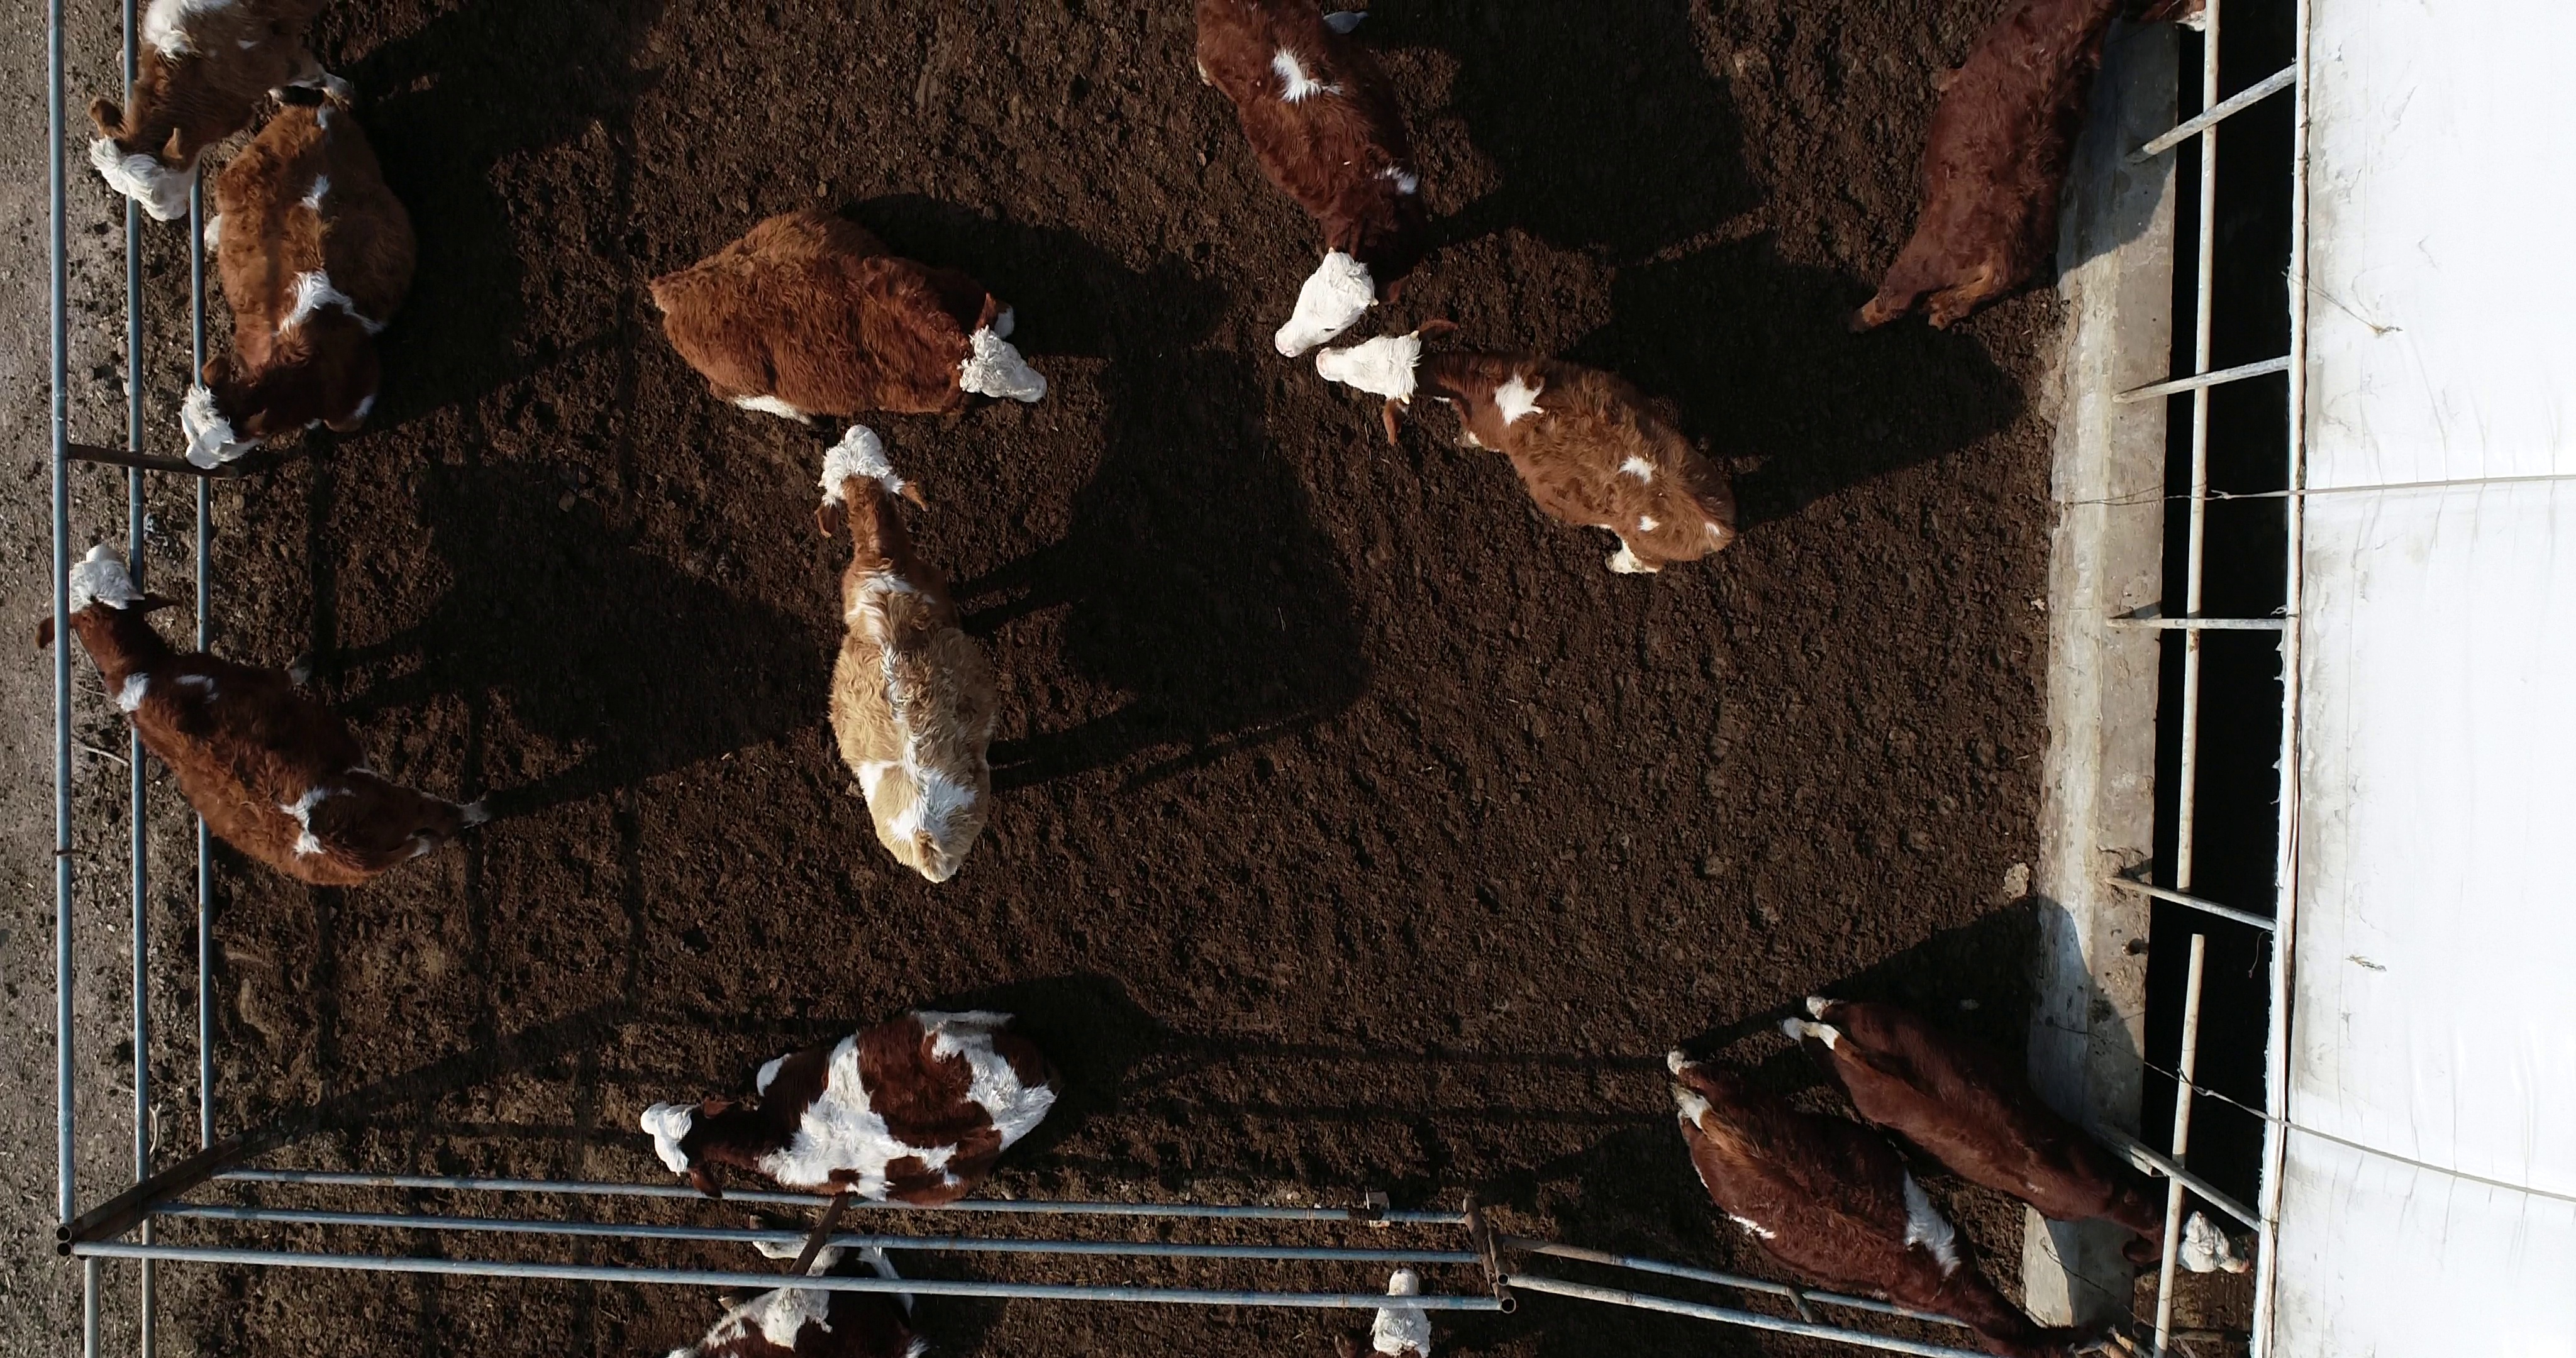cattle: (27, 535, 506, 898), (1312, 319, 1751, 581), (158, 97, 436, 482), (627, 1005, 1082, 1217), (1177, 2, 1435, 363), (804, 419, 1002, 886), (642, 211, 1056, 429)
